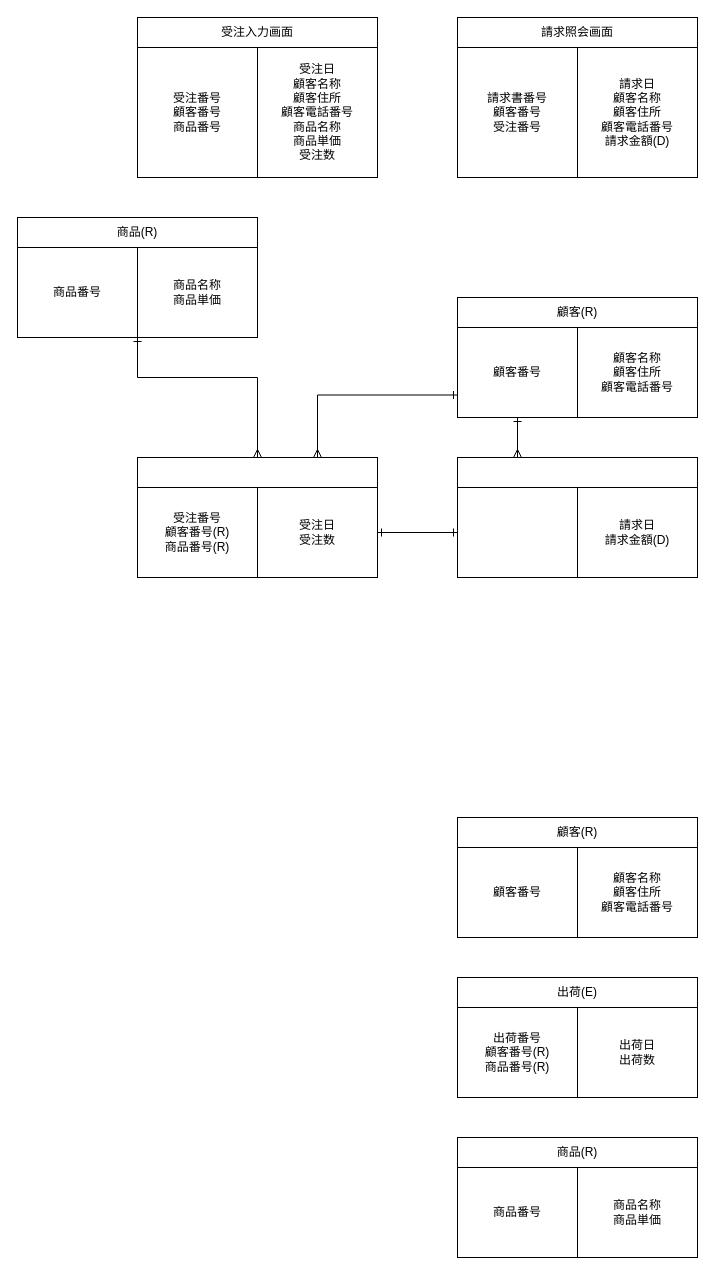
Image size: 715x1275. Some labels were removed from this diagram. Each missing label, with the box of its shape:
受注(E): (136, 456, 378, 488)
請求(E): (456, 456, 698, 488)
請求書番号 受注番号(R) 顧客番号(R): (456, 486, 578, 578)
